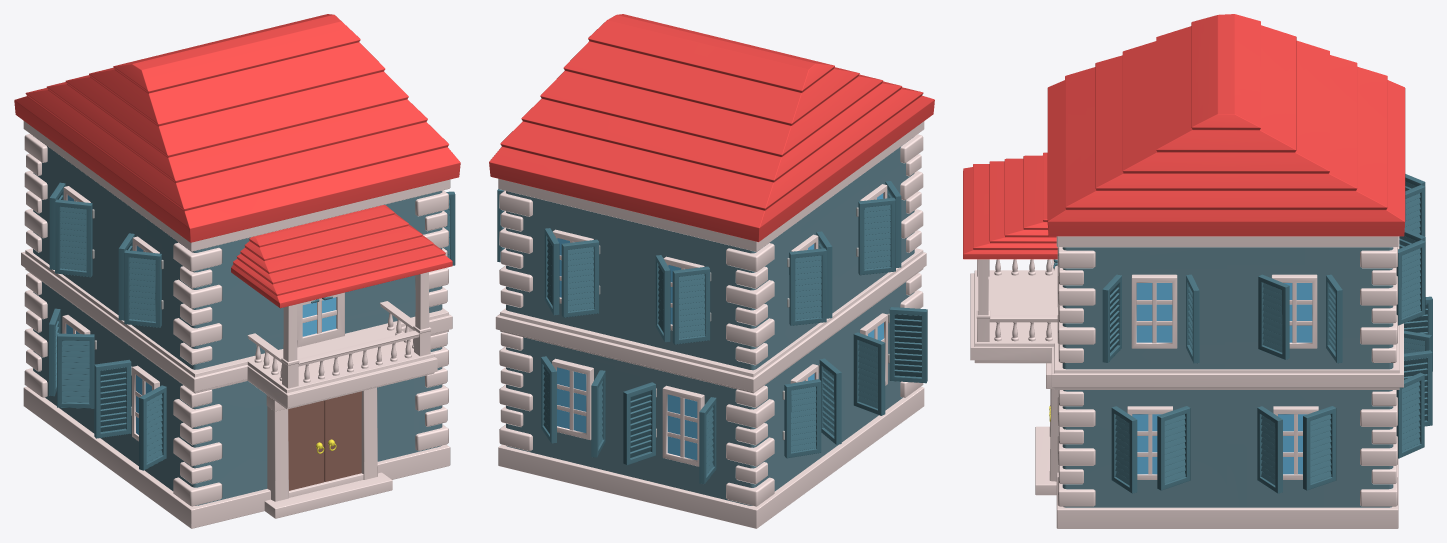
File: City_5_House_1.glb
3 views of the same model, side by side, from view 1: azimuth 30°, elevation 25°; view 2: azimuth 150°, elevation 25°; view 3: azimuth 270°, elevation 25° (orthographic).
Parts seen in each view (by area): view 1: City_5_House_1; view 2: City_5_House_1; view 3: City_5_House_1.
Part boxes in pixels (bbox=[...]): City_5_House_1: bbox=[14, 14, 460, 528]; City_5_House_1: bbox=[489, 14, 934, 528]; City_5_House_1: bbox=[963, 14, 1432, 528].
Bounding box in the file's own units: 7.67 × 9.12 × 9.68.
Materials: 1 (1 with a texture image).
